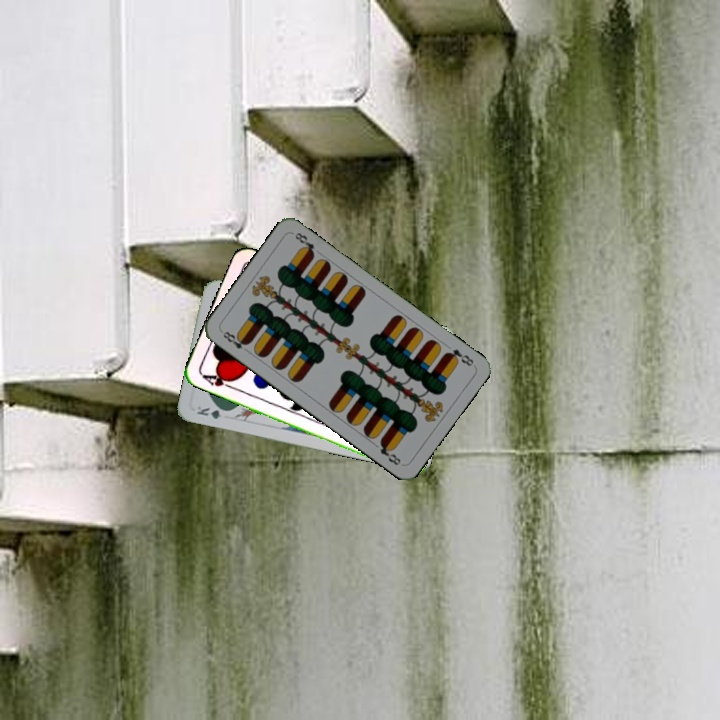E8: (217, 327, 252, 356), (441, 345, 476, 369)
GK: (193, 402, 233, 422)
HA: (197, 369, 237, 392)
